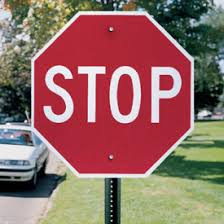stop: (29, 10, 195, 180)
